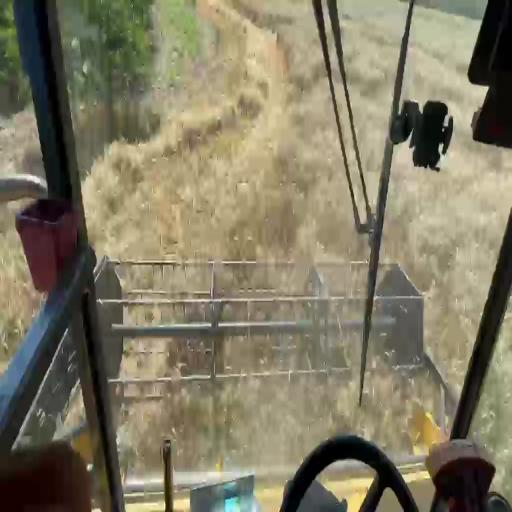bugday: (86, 0, 368, 292), (382, 135, 512, 384), (256, 334, 436, 466), (342, 20, 398, 200), (218, 380, 304, 461)
